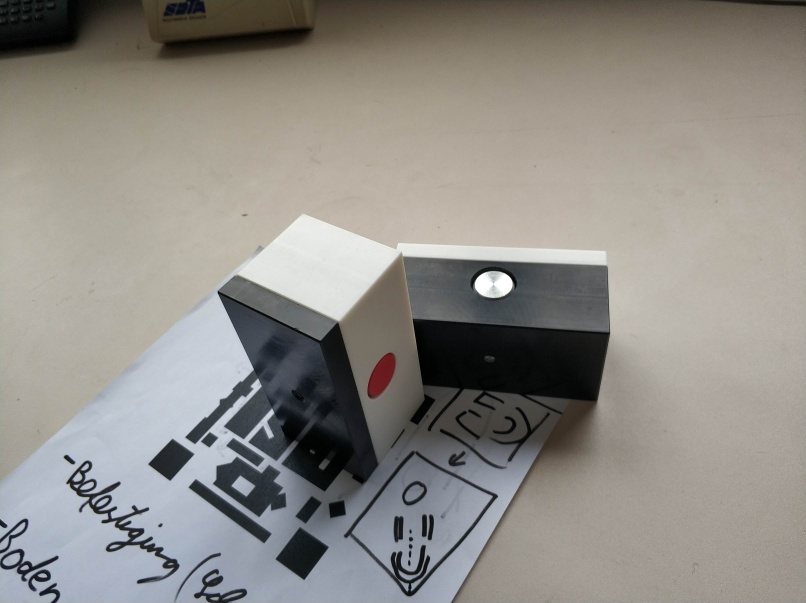black+white+red: (214, 212, 426, 488)
white+black+silver: (394, 240, 612, 403)
